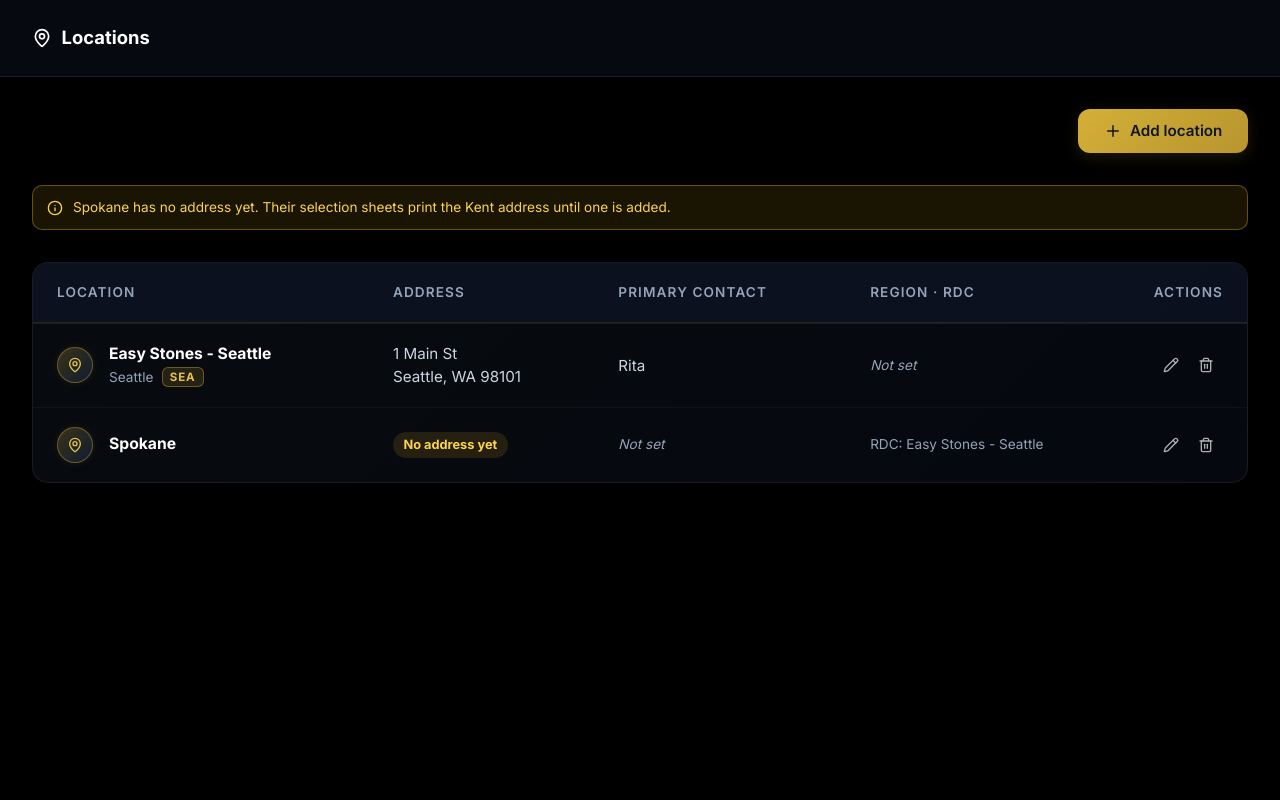
Test case: Users & Roles › lists locations, flags one with no address, opens the form
Expected: the text "Spokane has no address yet." is shown, [73,199,259,215]
Expected: the text "RDC: Easy Stones - Seattle" is shown, [870,436,1044,452]
What coordinates should you click on to do the following:
click the 1st button with class "action-icon-btn"
I would click on:
 (1171, 365)
Its box is [1157,351,1185,379].
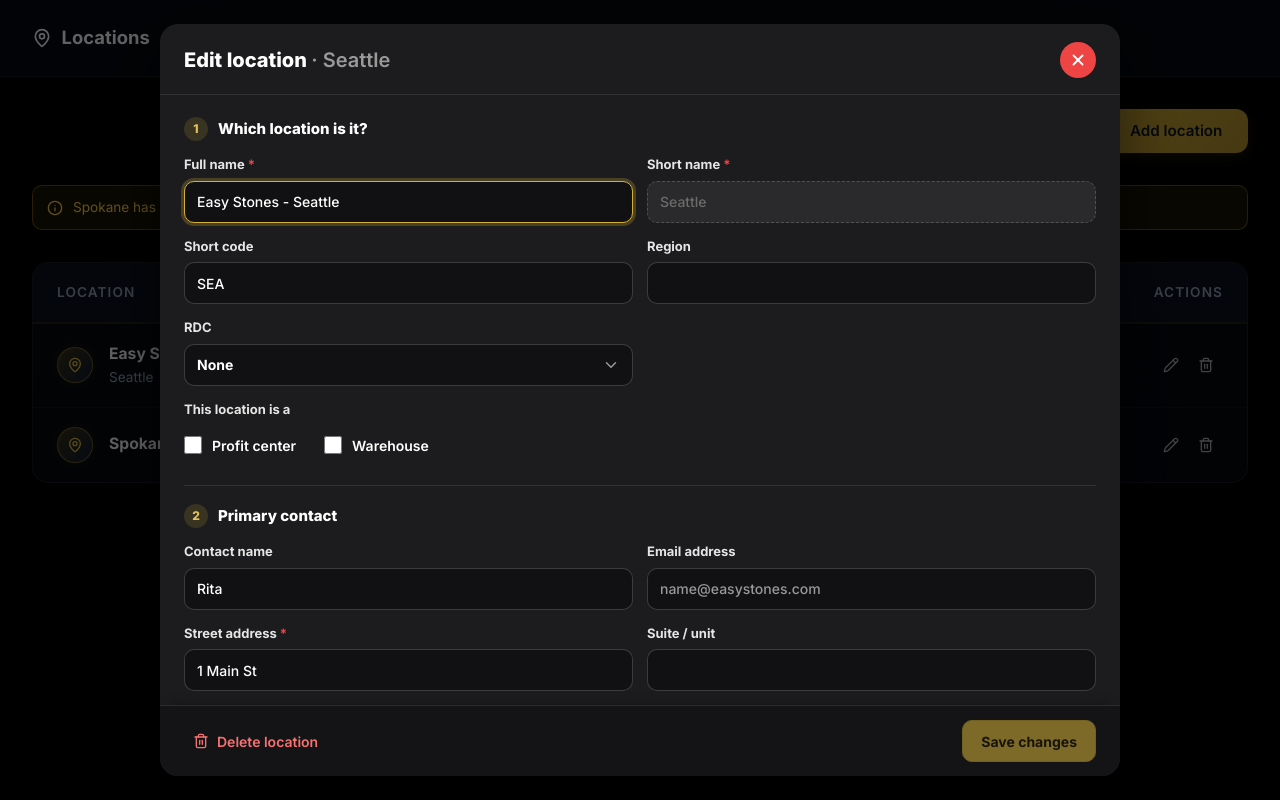
Now the text "Edit location" is shown, box [184,48,311,72]
